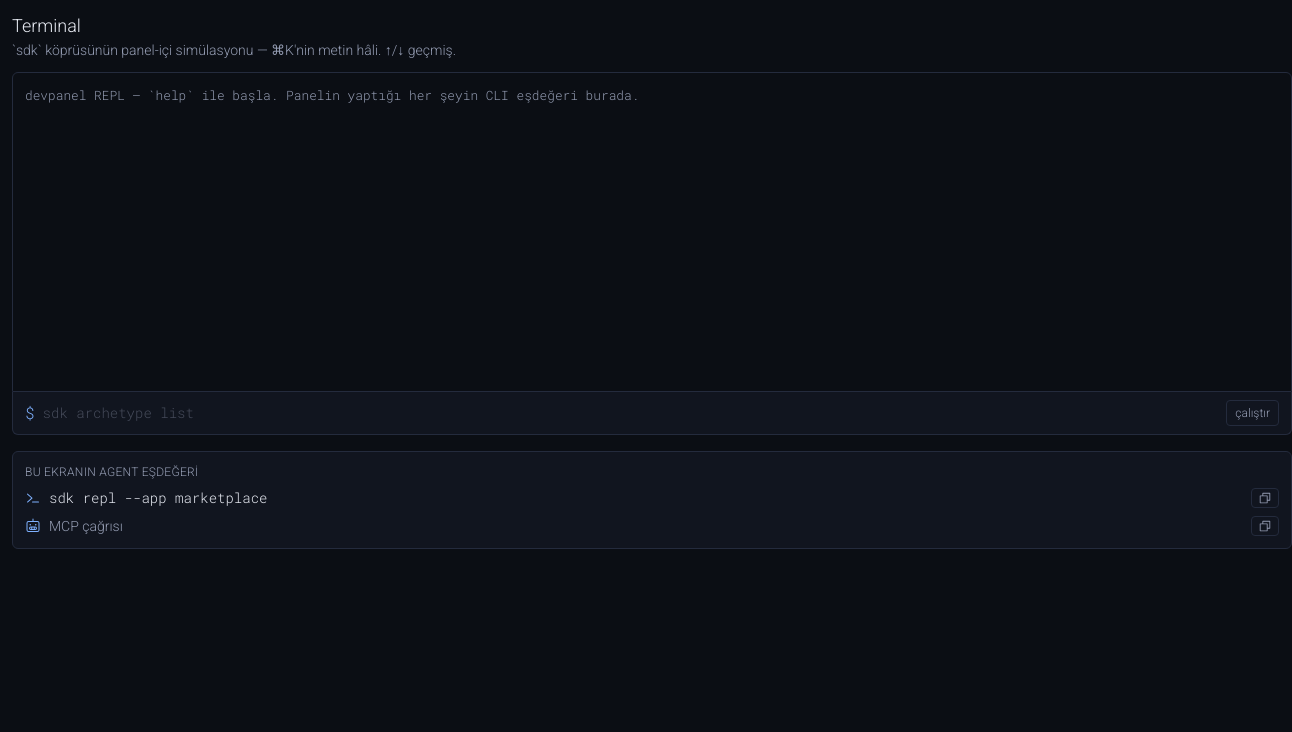
Scenario: Terminal ekranı › komut çalıştırır, çıktı loga düşer
Type "sdk check" into the field named "komut satırı" at (630, 413), box x1=43 y1=403 x2=1218 y2=423
Then press Enter
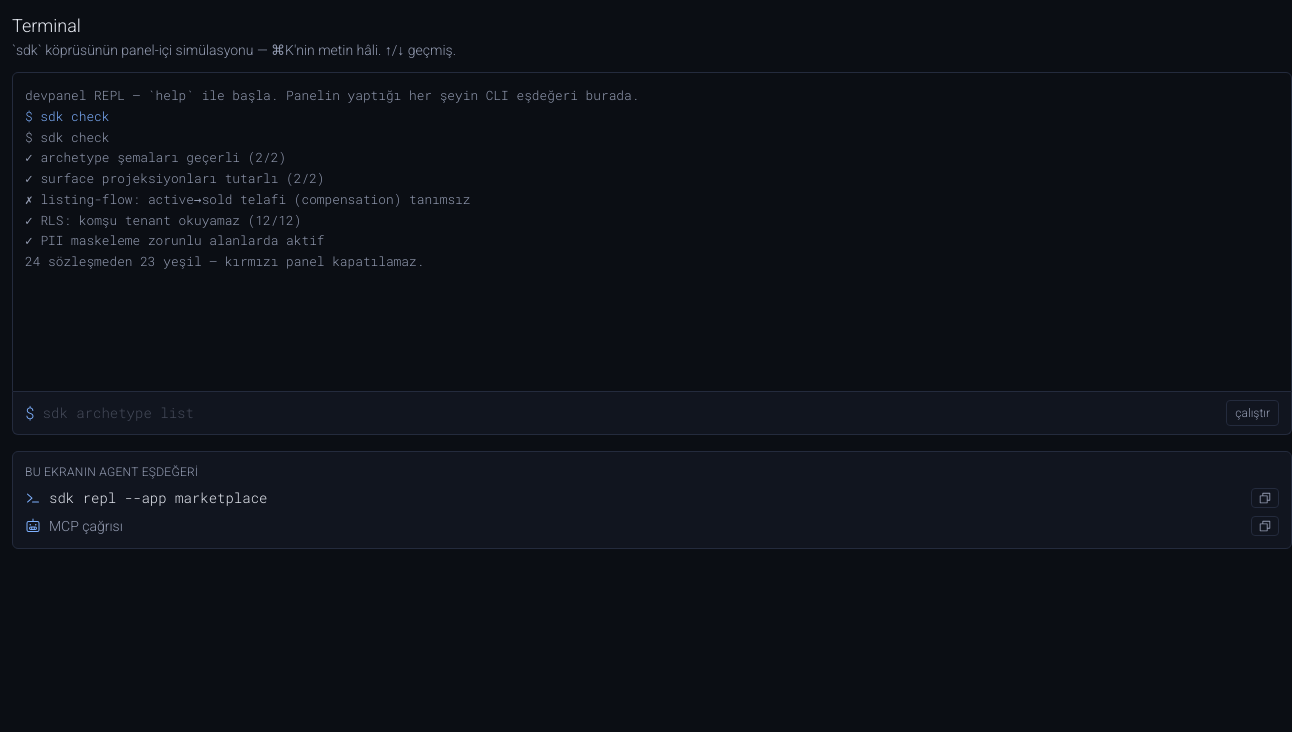
Expected: the text "sdk repl --app marketplace" is shown, x1=49 y1=488 x2=267 y2=507
Expected: the text "23 yeşil" is shown, x1=25 y1=129 x2=470 y2=269
